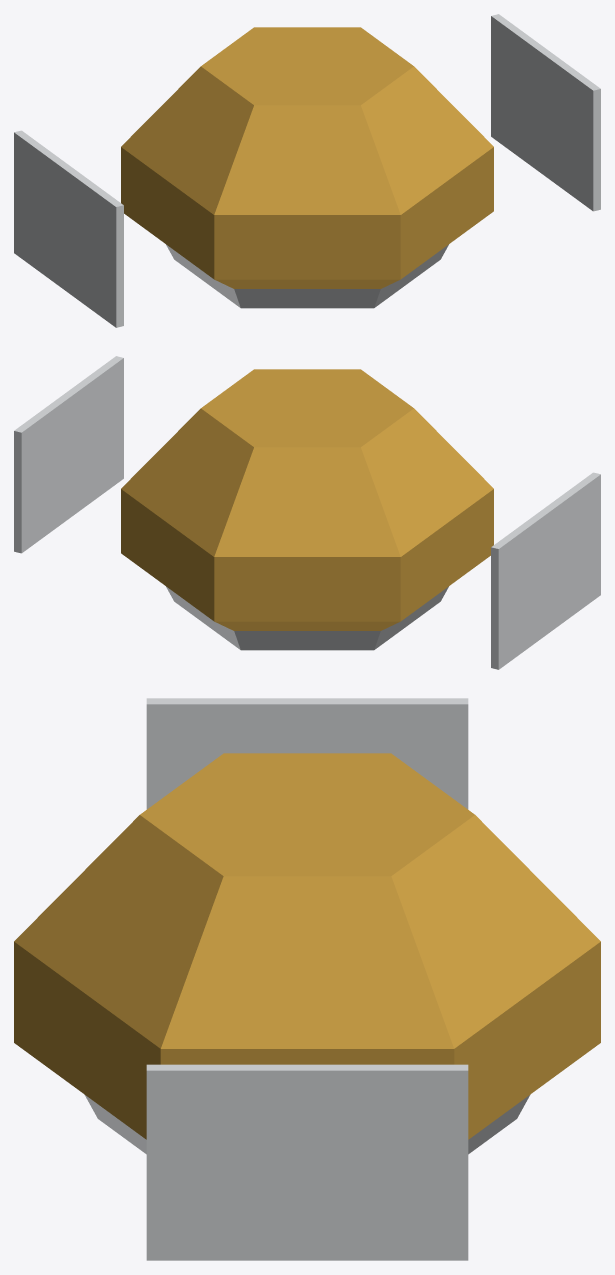
File: r1_transceiver.obj
The picture shows the model from 3 angles, top to bottom: view 1: azimuth 30°, elevation 25°; view 2: azimuth 150°, elevation 25°; view 3: azimuth 270°, elevation 25°; orthographic projection. The views are drawn at different scales.
Visible parts, largest first — view 1: r1_transceiver; view 2: r1_transceiver; view 3: r1_transceiver.
Part boxes in pixels (<box>): r1_transceiver: <box>14,14,600,327</box>; r1_transceiver: <box>14,356,600,669</box>; r1_transceiver: <box>14,698,600,1260</box>.
Bounding box in the file's own units: 1.26 × 0.48 × 0.84.
